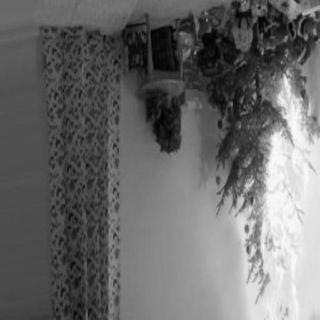Fire: (246, 76, 318, 320)
